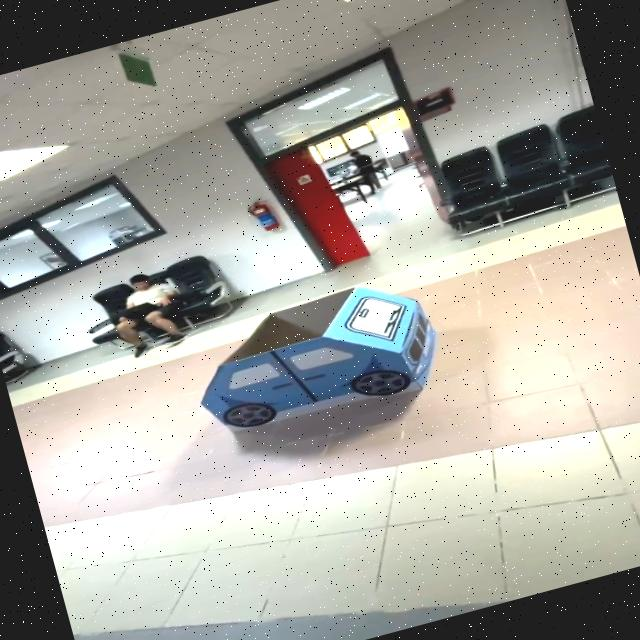blue_car: (184, 268, 462, 460)
